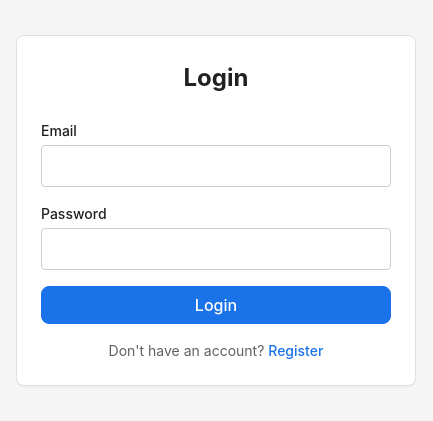
Test: LoginPage › displays error message on login failure
In the field labelled "Email": (216, 166) [41, 144, 391, 186], type "a@b.com"
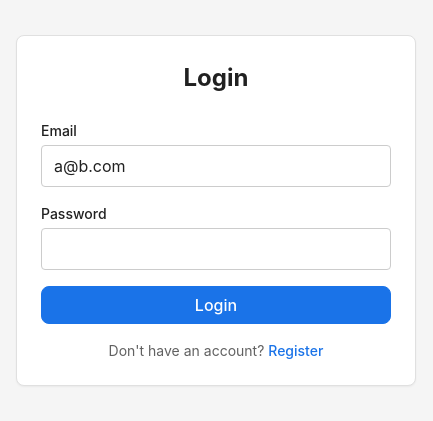
In the password field labelled "Password": (216, 248) [41, 228, 391, 270], type "wrong"
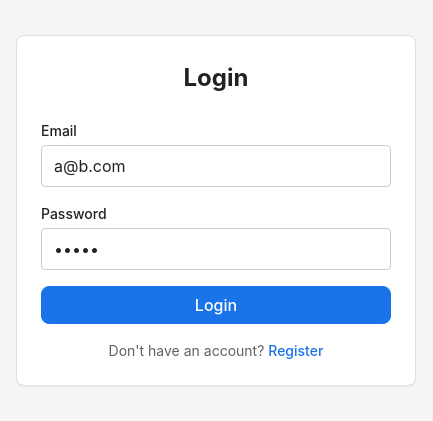
Click the button "Login": (216, 304) [41, 286, 391, 324]
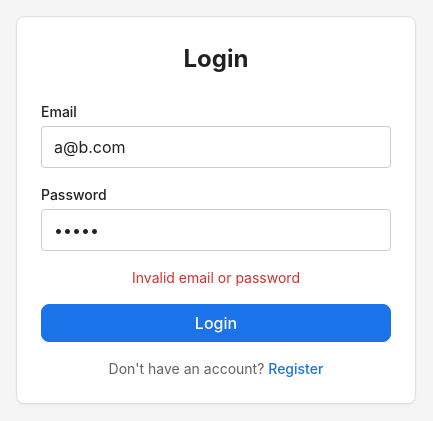
Now the message reads "Invalid email or password", box [132, 269, 300, 286]
